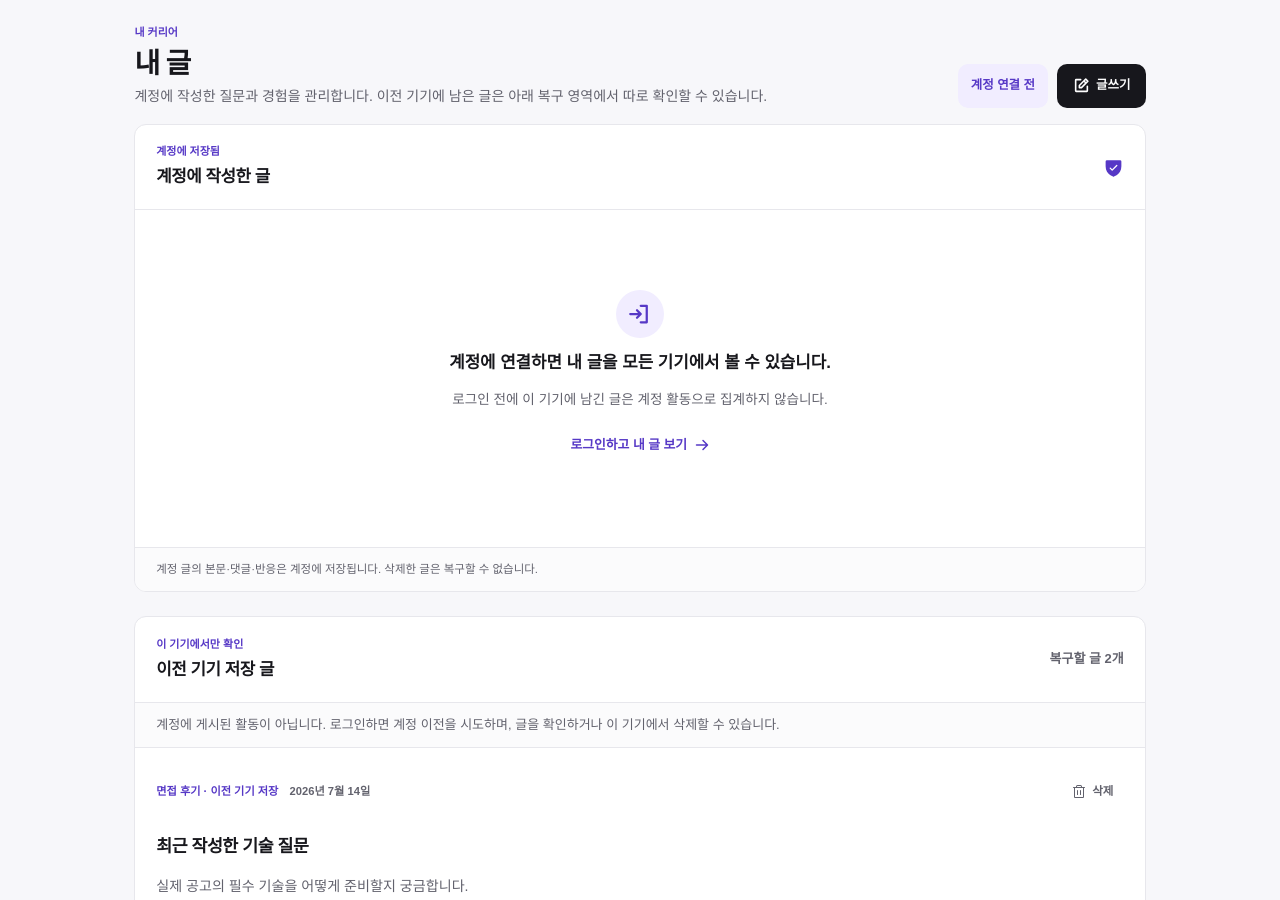
Scenario: AuthoredQuestions › requires confirmation and removes the post, interactions, and recent topic
The image size is (1280, 900).
Click the button with aria-label "최근 작성한 기술 질문 삭제" at point(1092, 792), box [1061,770,1124,814]
(page scrolled)
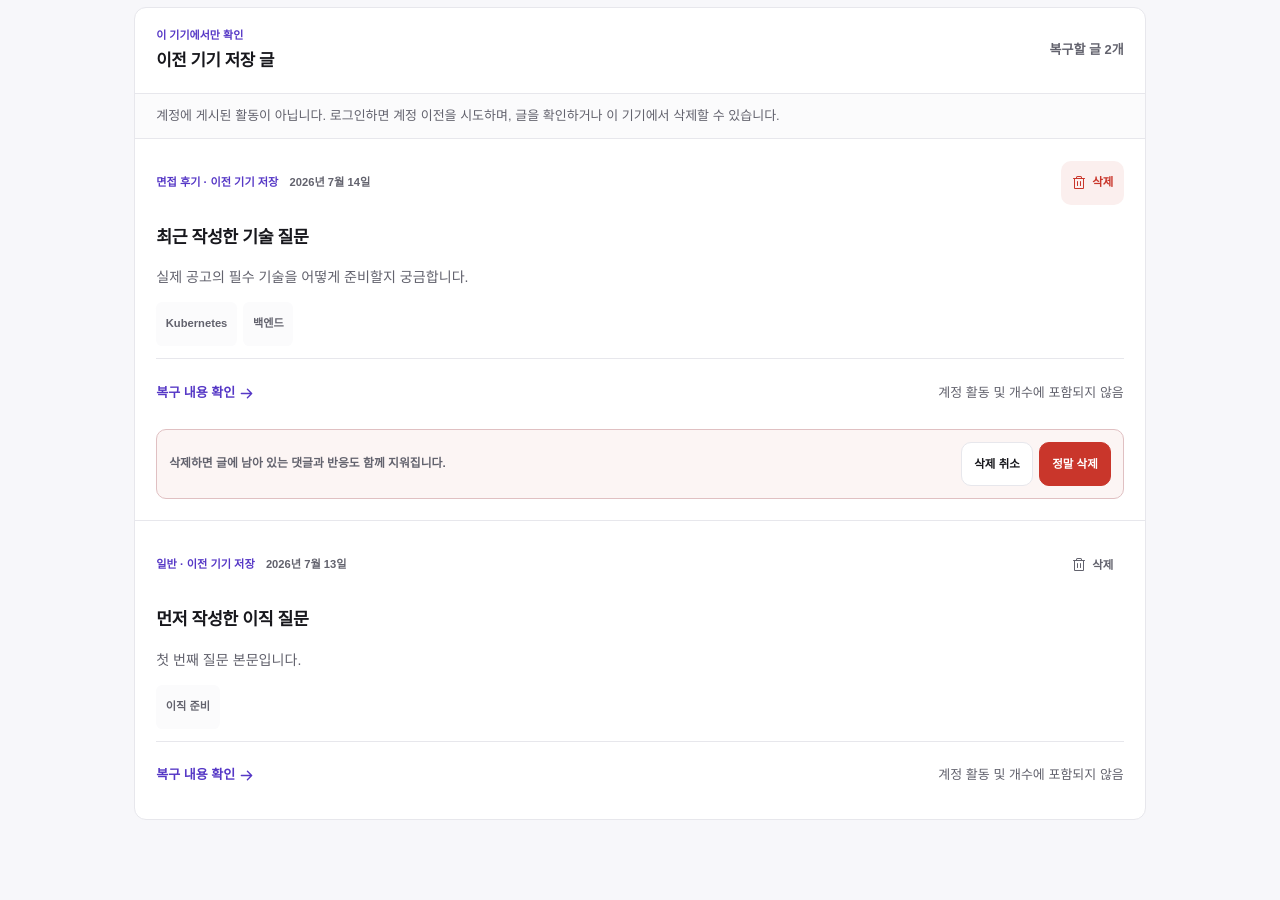
Expected: the text "삭제하면 글에 남아 있는 댓글과 반응도 함께 지워집니다." is shown, [169,454,446,473]
Click the button "삭제 취소" at point(997, 464), box [961,442,1033,486]
(page scrolled)
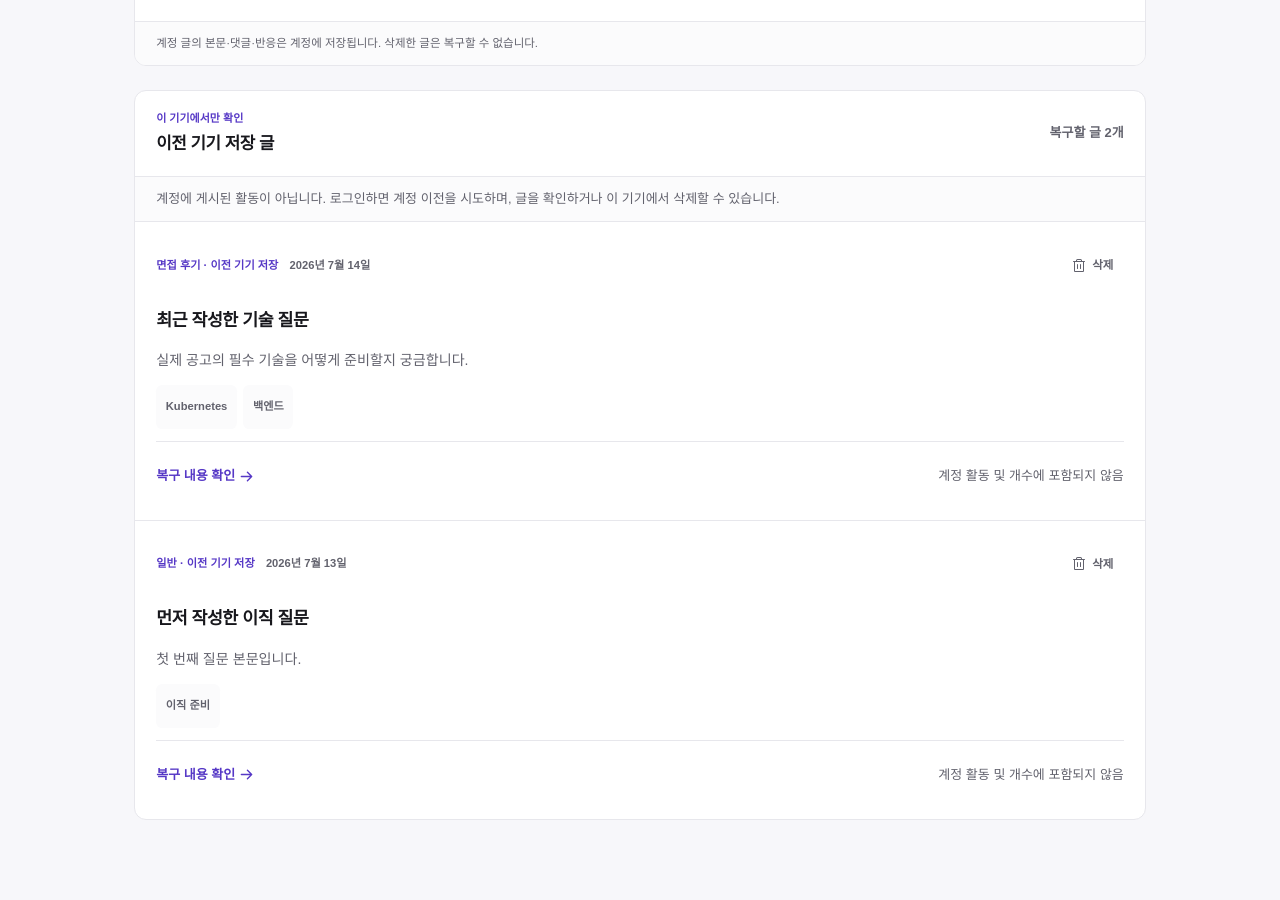
Expected: the text "삭제하면 글에 남아 있는 댓글과 반응도 함께 지워집니다." is gone
Click the button with aria-label "최근 작성한 기술 질문 삭제" at point(1092, 266), box [1061,244,1124,288]
(page scrolled)
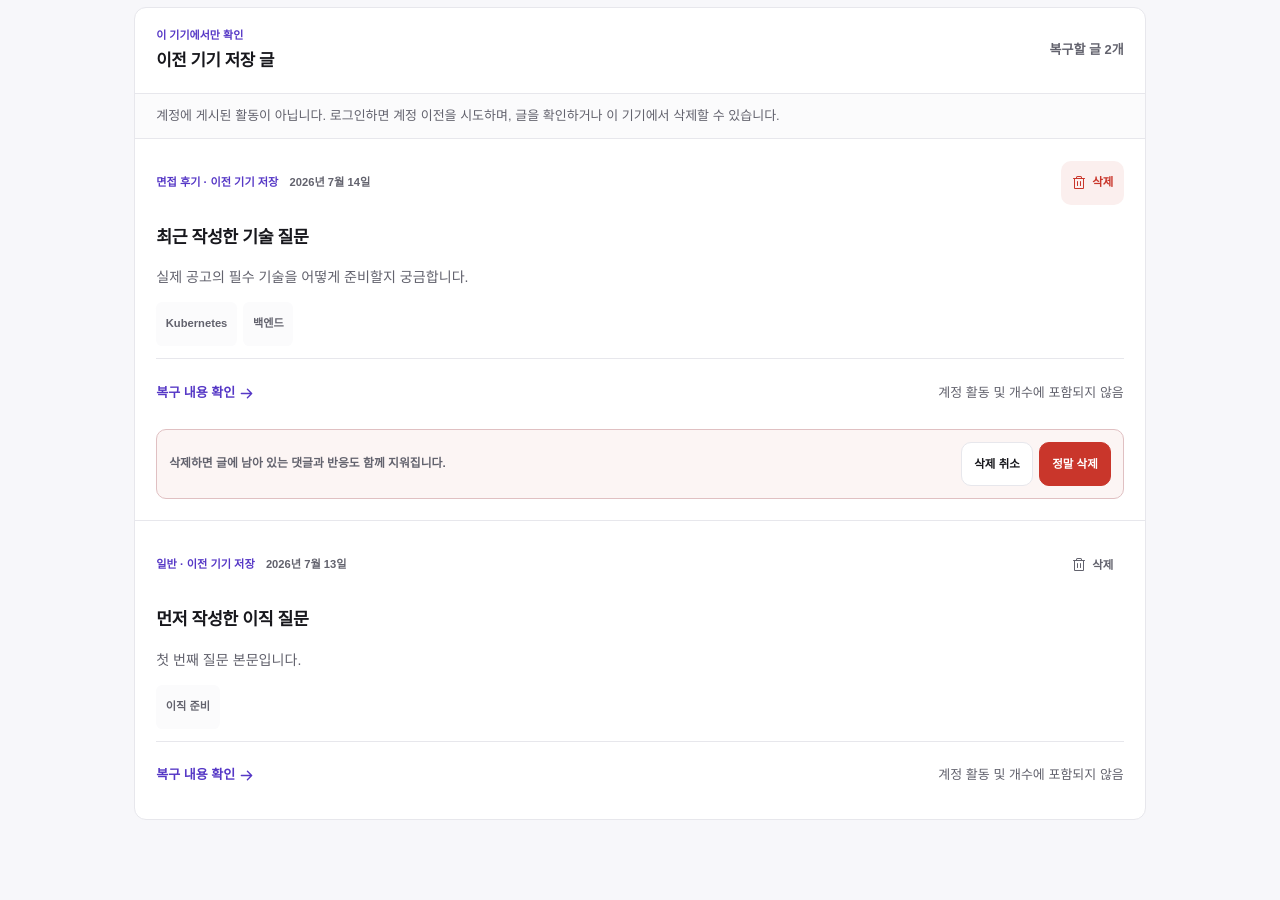
Click the button "정말 삭제" at point(1075, 464), box [1039,442,1111,486]
(page scrolled)
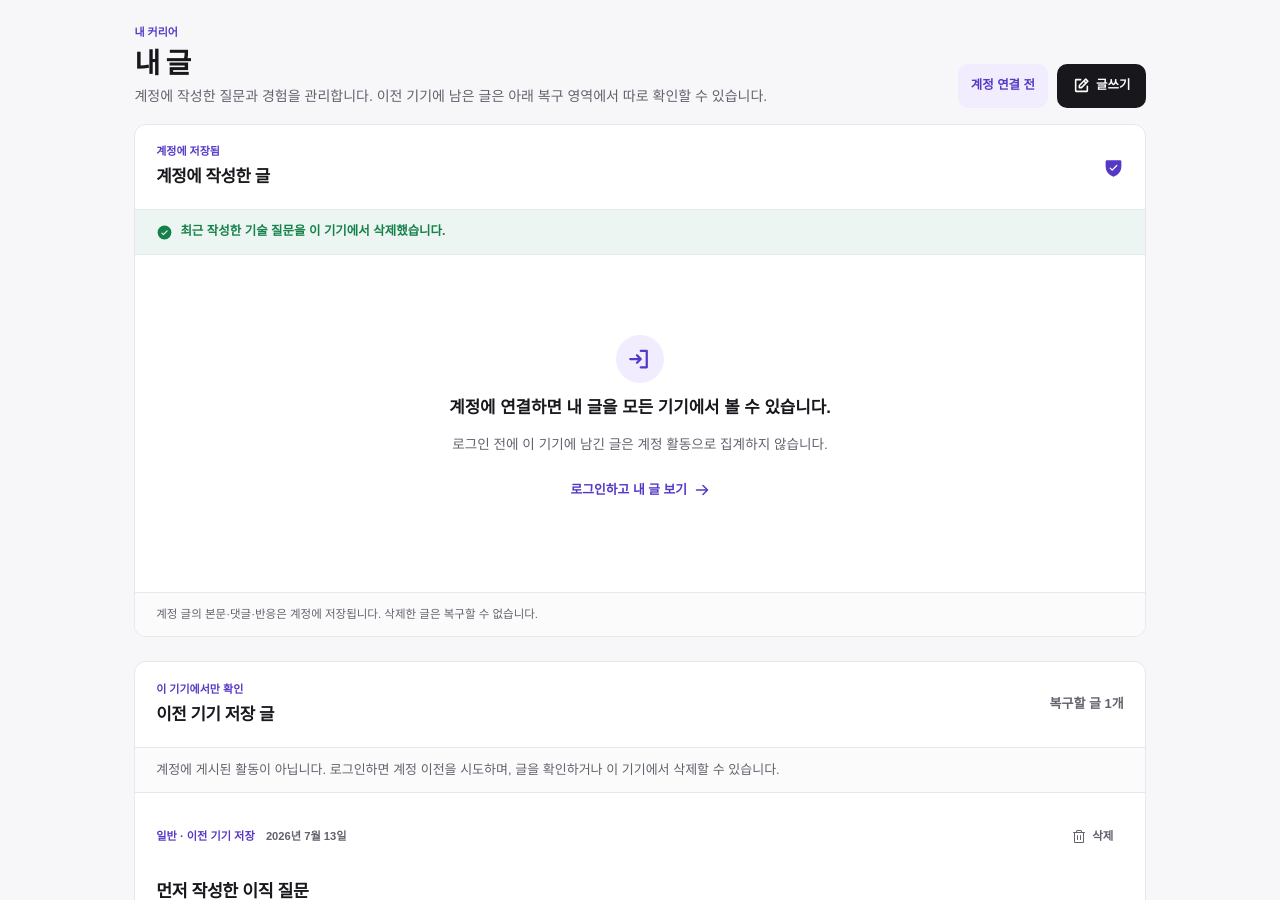
Expected: the message reads "최근 작성한 기술 질문을 이 기기에서 삭제했습니다.", [180,224,446,238]
